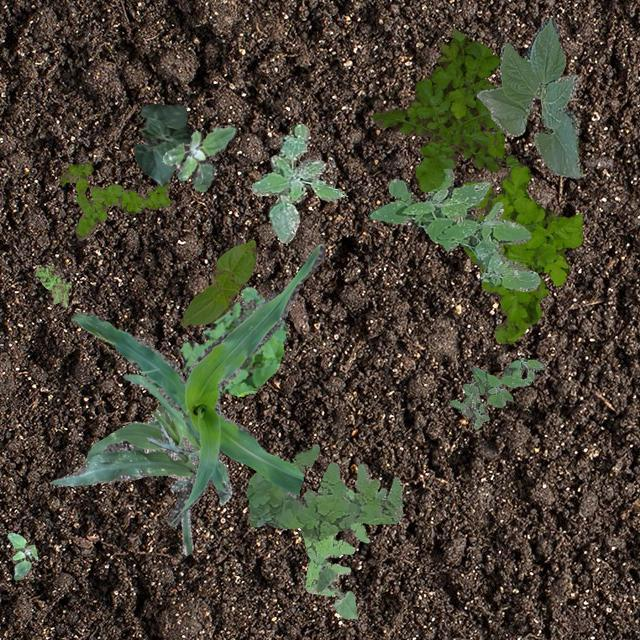crop: (70, 242, 324, 526), (49, 404, 198, 554), (476, 16, 582, 178), (122, 372, 230, 503), (180, 238, 254, 326), (132, 102, 192, 184), (314, 564, 358, 618)
weed: (462, 128, 582, 342), (368, 167, 540, 290), (372, 28, 499, 190), (246, 442, 402, 540), (180, 286, 286, 396), (250, 122, 342, 242), (58, 162, 170, 240), (303, 484, 369, 594), (448, 356, 544, 428), (162, 124, 234, 190), (34, 264, 70, 306), (6, 532, 36, 578)
